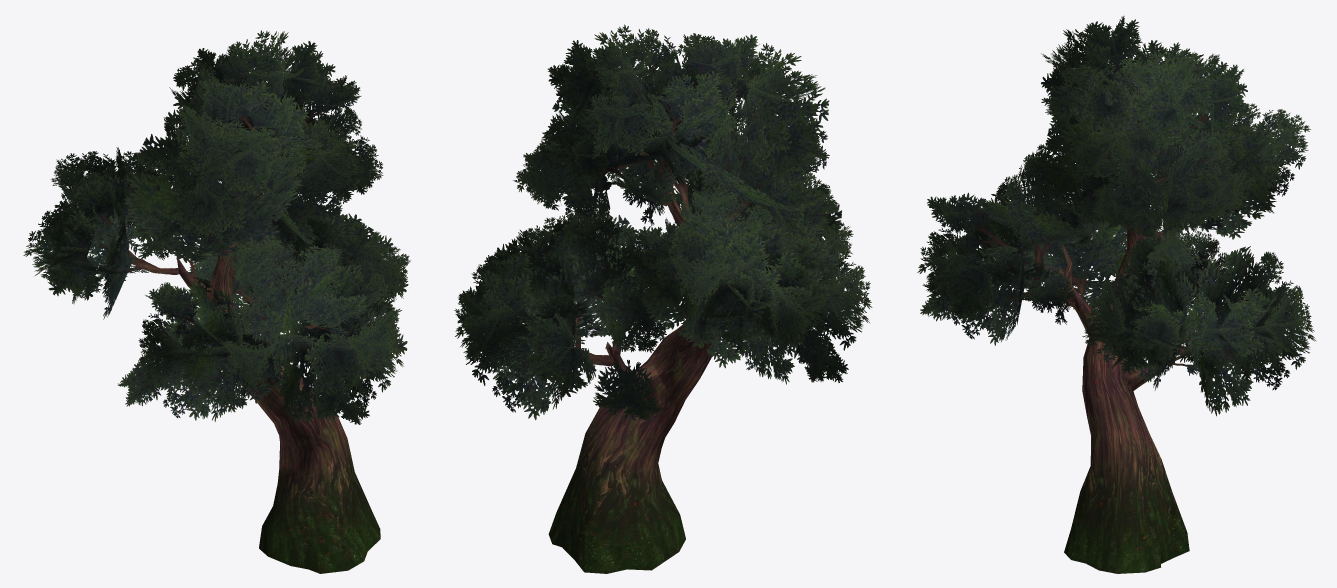
3 renders of one model, left to right at view 1: azimuth 30°, elevation 25°; view 2: azimuth 150°, elevation 25°; view 3: azimuth 270°, elevation 25°, orthographic. The views are drawn at different scales.
Size of the model in its own units: 41.88 by 58.96 by 43.66.
2 materials, 2 textured.
